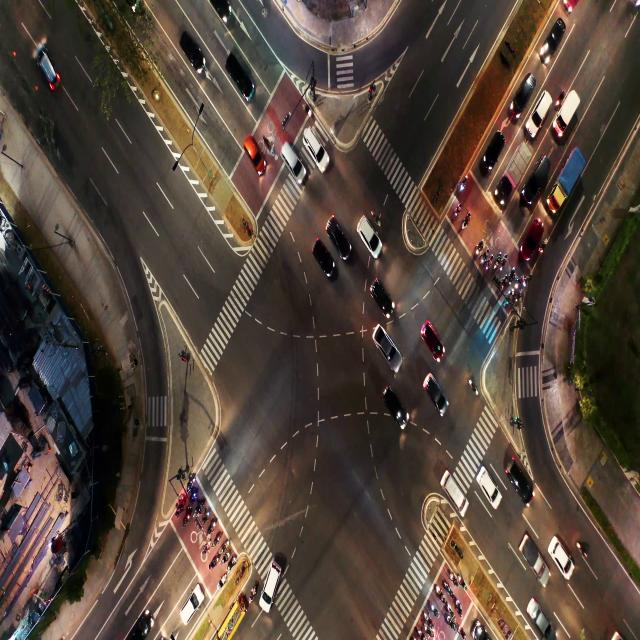bus: (222, 605, 244, 634)
car: (36, 48, 64, 87), (180, 33, 205, 71), (226, 54, 248, 92), (259, 564, 283, 598), (378, 328, 397, 361), (326, 215, 344, 249), (532, 98, 554, 124), (128, 614, 155, 634), (182, 584, 202, 611), (447, 472, 462, 506), (316, 238, 332, 268), (546, 21, 562, 50), (370, 276, 386, 304), (532, 605, 549, 631), (383, 392, 401, 416), (513, 78, 531, 102), (211, 3, 235, 20), (247, 135, 260, 166), (283, 142, 298, 168), (524, 228, 538, 254), (305, 128, 317, 158), (428, 382, 443, 406), (482, 474, 498, 496), (514, 467, 528, 492), (554, 546, 570, 564), (426, 326, 439, 348), (534, 165, 550, 181), (361, 217, 370, 244), (486, 138, 500, 155)
motorcycle: (577, 541, 588, 559), (469, 379, 479, 396), (456, 572, 466, 589), (248, 585, 256, 604), (538, 242, 548, 255), (264, 138, 272, 154), (372, 212, 381, 226), (304, 105, 312, 119), (449, 572, 457, 586), (455, 598, 462, 614), (513, 291, 520, 306), (436, 585, 443, 599), (459, 624, 466, 638), (452, 207, 460, 219), (442, 580, 450, 592), (446, 616, 454, 628), (218, 576, 225, 588), (462, 216, 468, 230), (458, 181, 466, 191), (416, 628, 424, 638), (222, 539, 228, 552), (474, 243, 480, 256), (479, 254, 485, 267), (447, 601, 453, 614), (196, 503, 202, 515), (210, 556, 216, 568), (500, 280, 506, 292), (524, 276, 530, 288), (209, 520, 214, 534), (424, 612, 431, 622), (431, 602, 436, 615), (424, 626, 432, 634), (184, 513, 190, 523), (202, 512, 208, 522), (486, 257, 490, 272), (495, 256, 499, 271), (507, 294, 514, 302), (215, 533, 220, 544), (509, 272, 513, 285), (228, 560, 233, 570), (188, 478, 192, 490), (191, 493, 196, 502), (203, 542, 208, 551), (176, 504, 180, 514), (222, 554, 226, 564), (500, 261, 503, 273), (515, 281, 518, 288)
truck: (523, 541, 544, 570), (560, 160, 578, 190), (560, 101, 576, 130), (505, 154, 521, 182)
